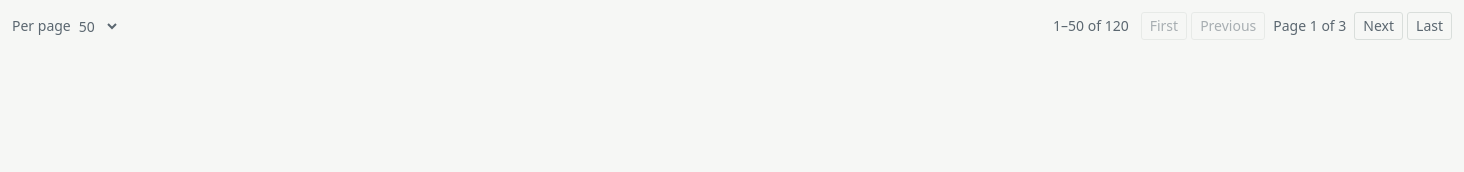
Scenario: Pager › on the first page, no way back; on the last, no way on
expect the button "First" is disabled: met, box [1141,12,1187,40]
expect the button "Previous" is disabled: met, box [1191,12,1265,40]
Click the button "Last".
click(1430, 26)  # box [1407,12,1452,40]
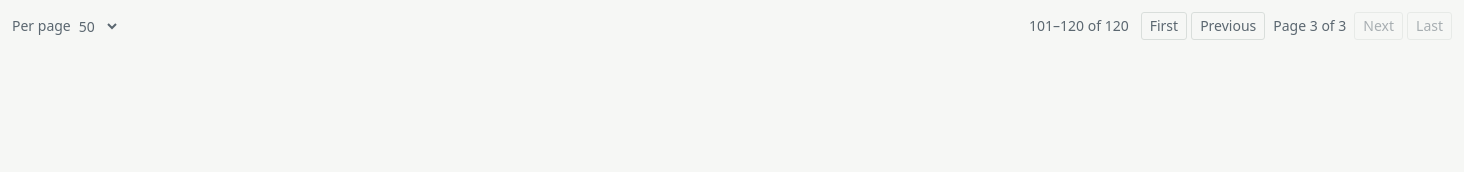
expect the text "101–120 of 120" is shown: met, box [1029,16,1129,36]
expect the button "Next" is disabled: met, box [1354,12,1403,40]
expect the button "Last" is disabled: met, box [1407,12,1452,40]
Click the button "Previous".
click(1228, 26)  # box [1191,12,1265,40]
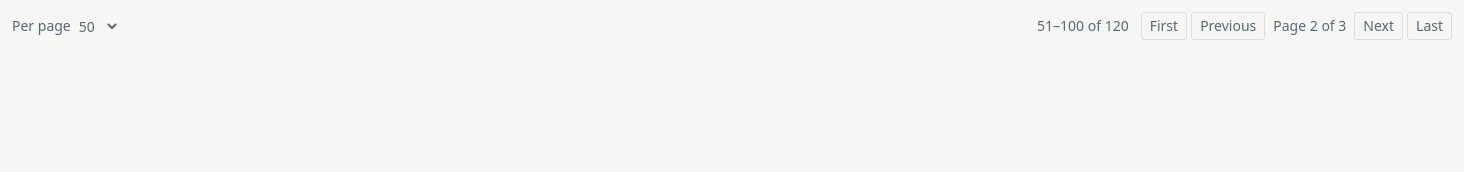
expect the text "51–100 of 120" is shown: met, box [1037,16,1129,36]
Click the button "First".
click(1164, 26)  # box [1141,12,1187,40]
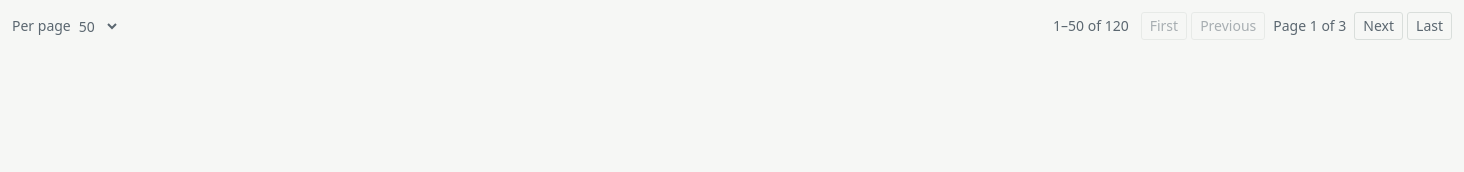
expect the text "1–50 of 120" is shown: met, box [1053,16,1129,36]
